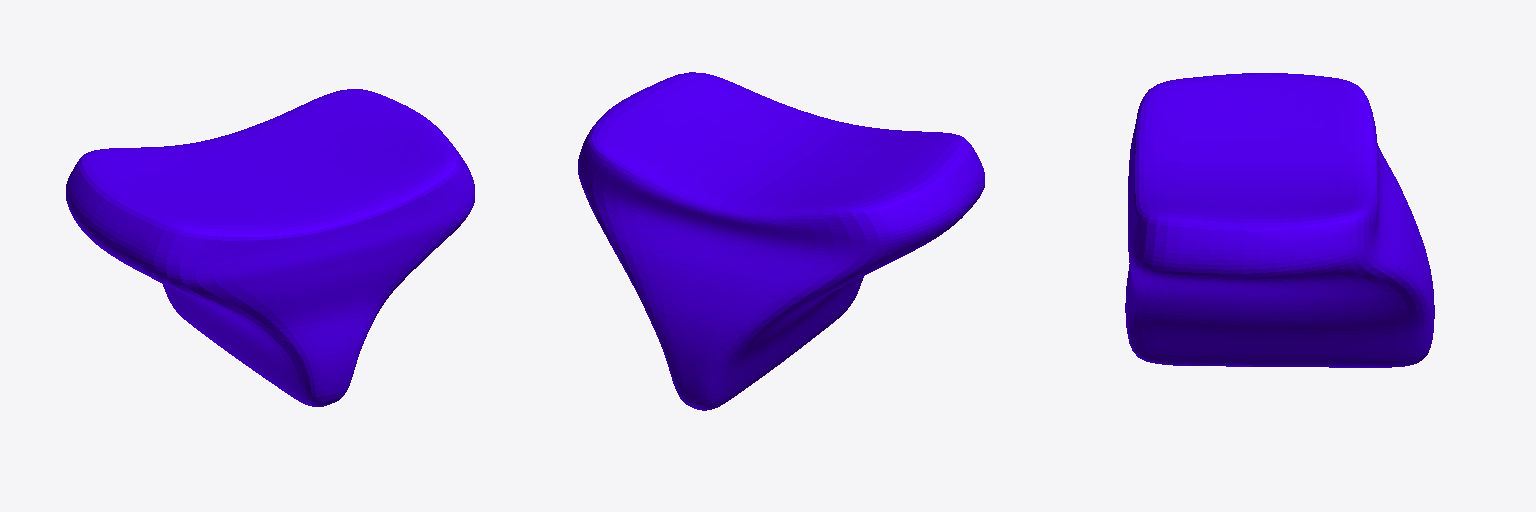
File: m_pelvis.obj
The picture shows the model from 3 angles: view 1: azimuth 30°, elevation 25°; view 2: azimuth 150°, elevation 25°; view 3: azimuth 270°, elevation 25°; orthographic projection.
Visible parts, largest first — view 1: pCube1; view 2: pCube1; view 3: pCube1.
Part boxes in pixels (left/top/right/bottom): pCube1: left=66, top=89, right=474, bottom=406; pCube1: left=578, top=72, right=984, bottom=410; pCube1: left=1125, top=73, right=1434, bottom=367.
Bounding box in the file's own units: 1.22 × 0.7178 × 0.9305.